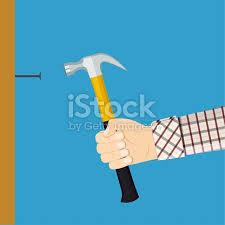hammer: (61, 51, 140, 203)
